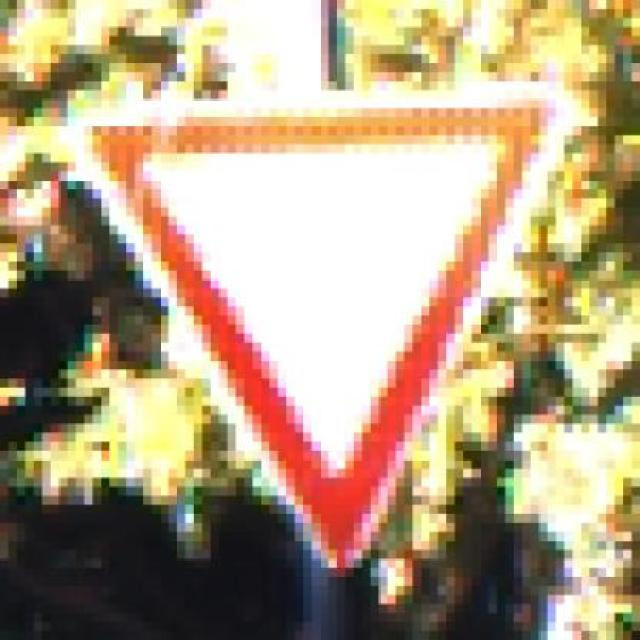Give Way: (34, 72, 606, 586)
